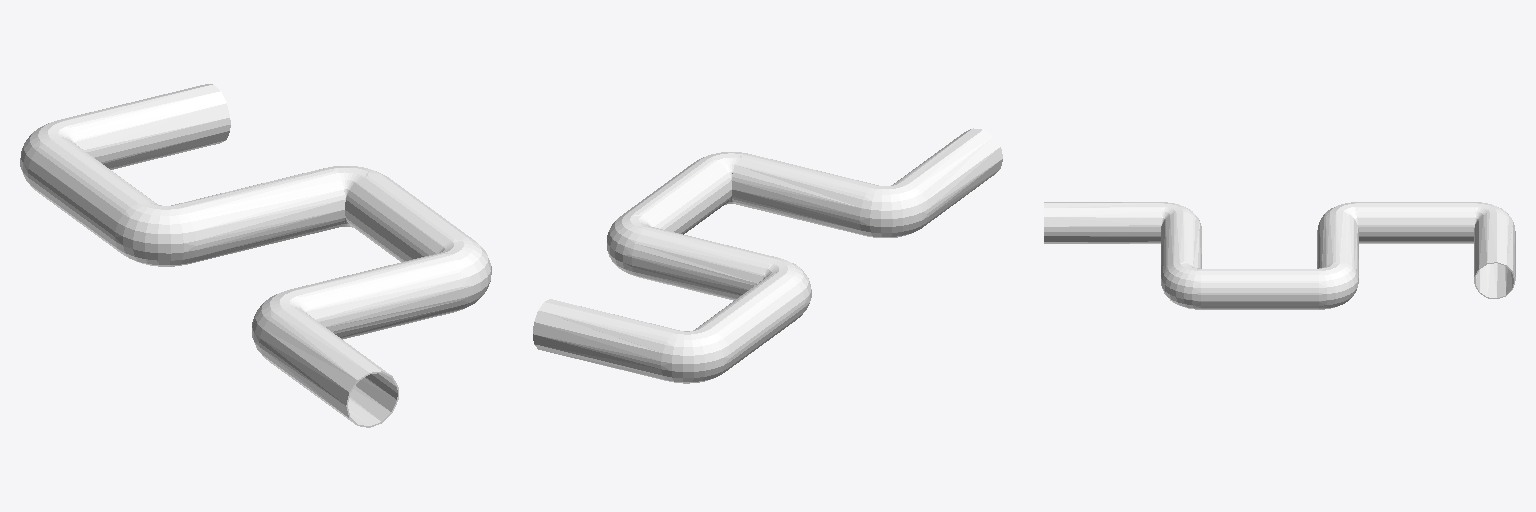
URDF robot description (simple_pipe_200):
<?xml version="1.0" encoding="utf-8"?>
<!-- This URDF was automatically created by SolidWorks to URDF Exporter! Originally created by [author] ([email redacted]) 
     Commit Version: 1.6.0-4-g7f85cfe  Build Version: 1.6.7995.38578
     For more information, please see http://wiki.ros.org/sw_urdf_exporter -->
<robot
  name="simple_pipe_200">
  <link
    name="pipe_link">
    <inertial>
      <origin
        xyz="0 0 0.106"
        rpy="1.57079632679 0 0" />
      <mass
        value="22.1352657637449" />
      <inertia
        ixx="10.3541290072399"
        ixy="3.16613753331128E-07"
        ixz="-0.0601705624440979"
        iyy="12.5458325670291"
        iyz="2.61987888555496E-07"
        izz="2.4267527589344" />
    </inertial>
    <visual>
      <origin
        xyz="0 0 0.106"
        rpy="1.57079632679 0 0" />
      <geometry>
        <mesh
          filename="package://pir-b-001/meshes/pipe_link_200.STL" />
      </geometry>
      <material
        name="">
        <color
          rgba="1 1 1 1" />
      </material>
    </visual>
    <collision>
      <origin
        xyz="0 0 0.106"
        rpy="1.57079632679 0 0" />
      <geometry>
        <mesh
          filename="package://pir-b-001/meshes/pipe_link_200.STL" />
      </geometry>
    </collision>
  </link>

  <gazebo>
    <static>true</static>
  </gazebo>
  <gazebo reference="pipe_link">
    <material>Gazebo/GreyTransparent</material>
  </gazebo>

</robot>

--- Facts derived from the render (not from the file) ---
Views: 3 orthographic renders of the robot side by side, from view 1: azimuth 30°, elevation 25°; view 2: azimuth 150°, elevation 25°; view 3: azimuth 270°, elevation 25°.
Robot: simple_pipe_200 — 1 links, 0 joints (none); root link pipe_link; default pose: all joints at 0.
Links seen in each view (by area): view 1: pipe_link; view 2: pipe_link; view 3: pipe_link.
Link boxes in pixels (x1,y1,x2,y2): pipe_link: [20, 84, 491, 427]; pipe_link: [533, 128, 1002, 383]; pipe_link: [1044, 202, 1515, 309].
Size in the robot's own frame: 1.01 by 2.41 by 0.2112 metres.
1 mesh visuals loaded from 1 distinct referenced files (1 binary STL).